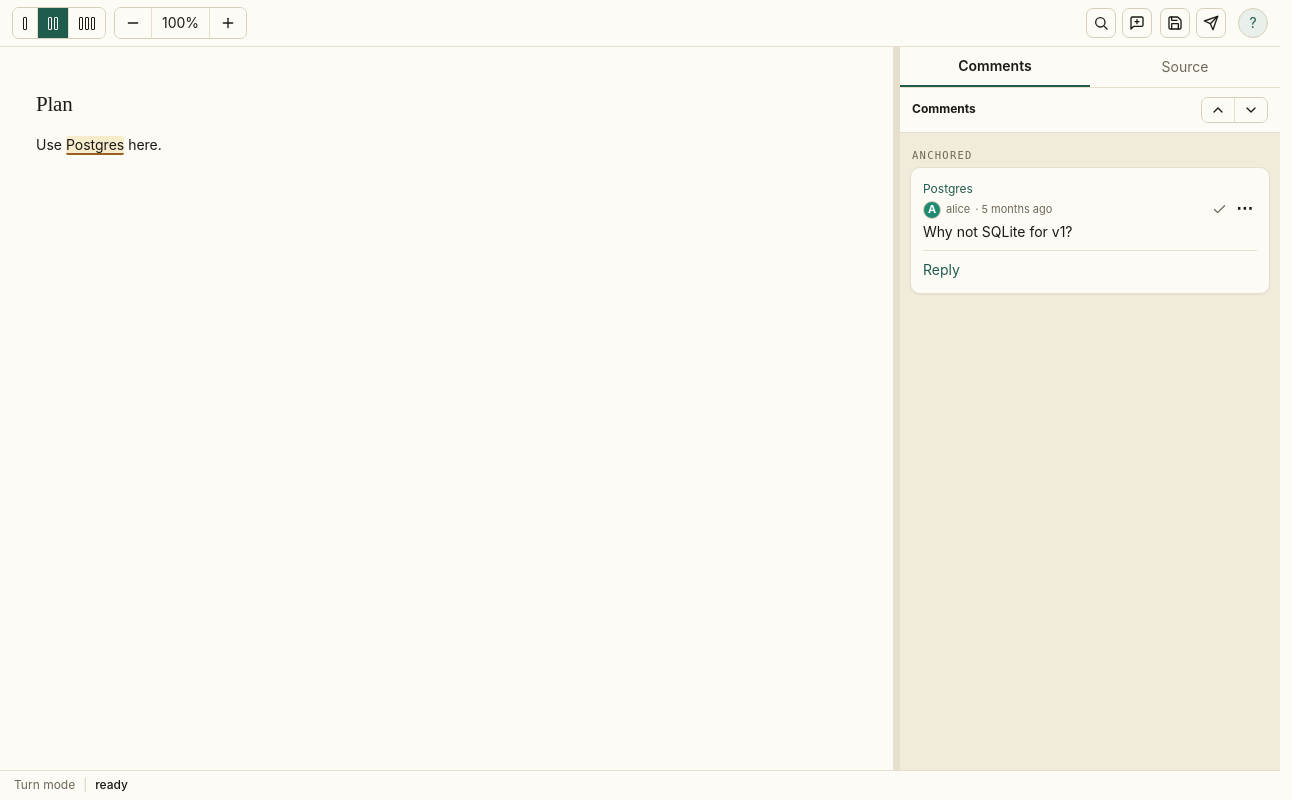
Test: App comment-thread actions (memory-backed) › resolve: 'Resolve thread' resolves it, then it reappears as 'Reopen thread' when resolved threads are shown
This screenshot has width=1292, height=800.
Expected: the element that starts with "Postgres" is shown, top-left (910, 167), bottom-right (1270, 294)
Click the button named "resolve thread" at (1220, 210), box top-left (1209, 202), bottom-right (1230, 217)
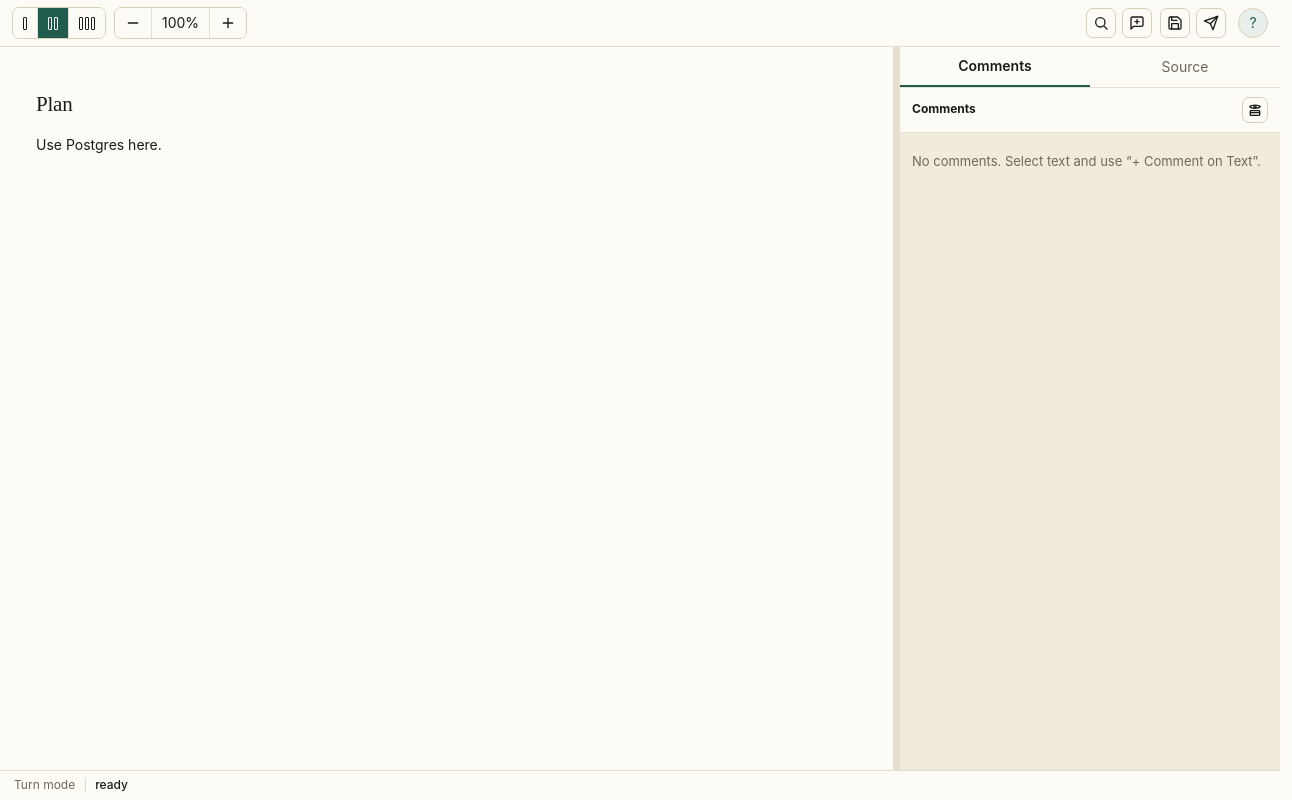
Click the button named "resolved" at (1255, 110), box top-left (1242, 97), bottom-right (1268, 123)
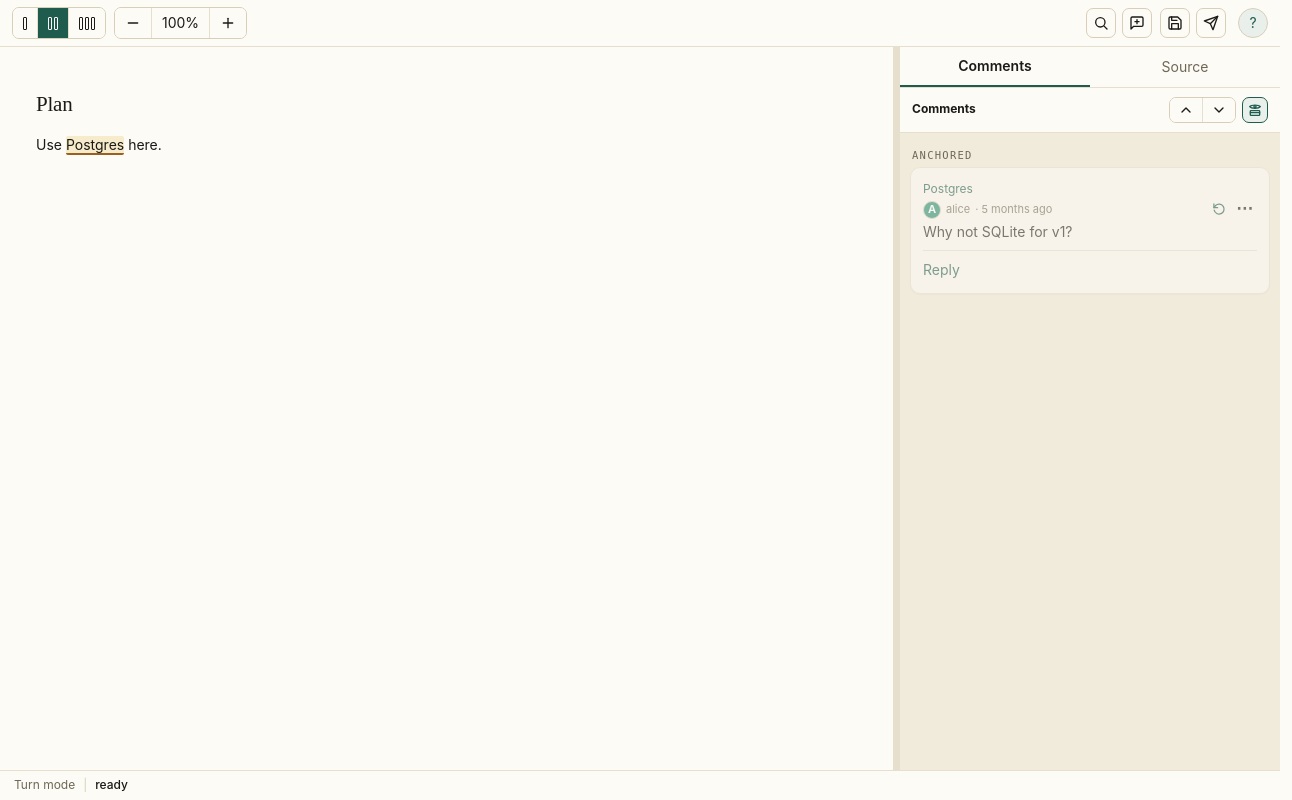
Expected: the element that starts with "Postgres" is shown, top-left (910, 167), bottom-right (1270, 294)
Expected: the button named "reopen thread" is shown, top-left (1209, 202), bottom-right (1230, 217)
